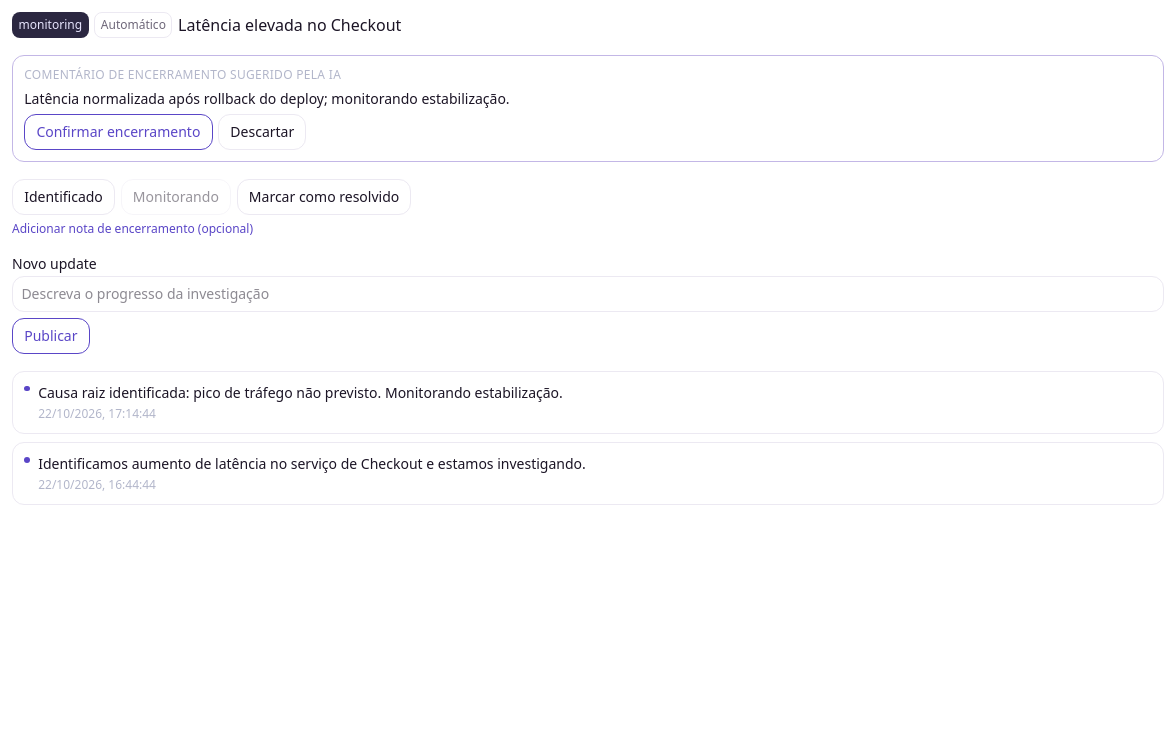
IncidentDetail › adding 2 updates appears in reverse chronological order
Expected: the text "Identificamos aumento de latência" is shown, left=38, top=454, right=586, bottom=474
Type "Primeiro update novo" into the field labelled "Novo update".
click(588, 294); type("Primeiro update novo")  # box left=12, top=276, right=1164, bottom=312
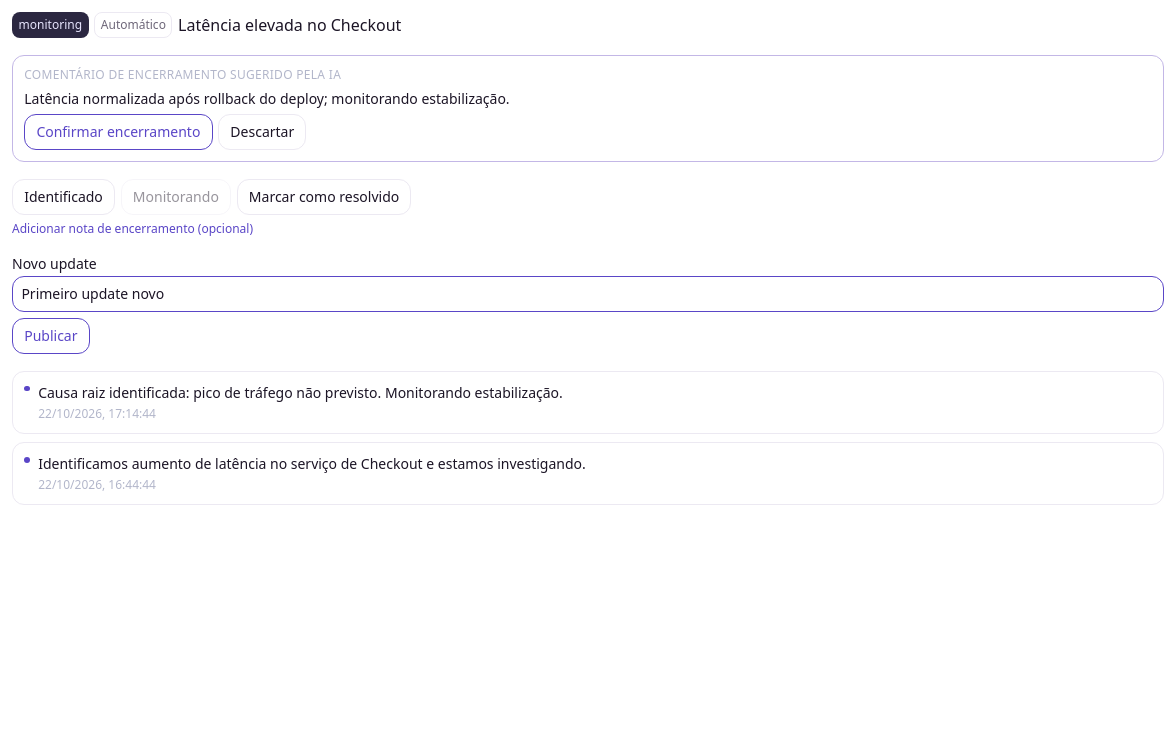
Click the button "Publicar".
click(51, 336)  # box left=12, top=318, right=90, bottom=354
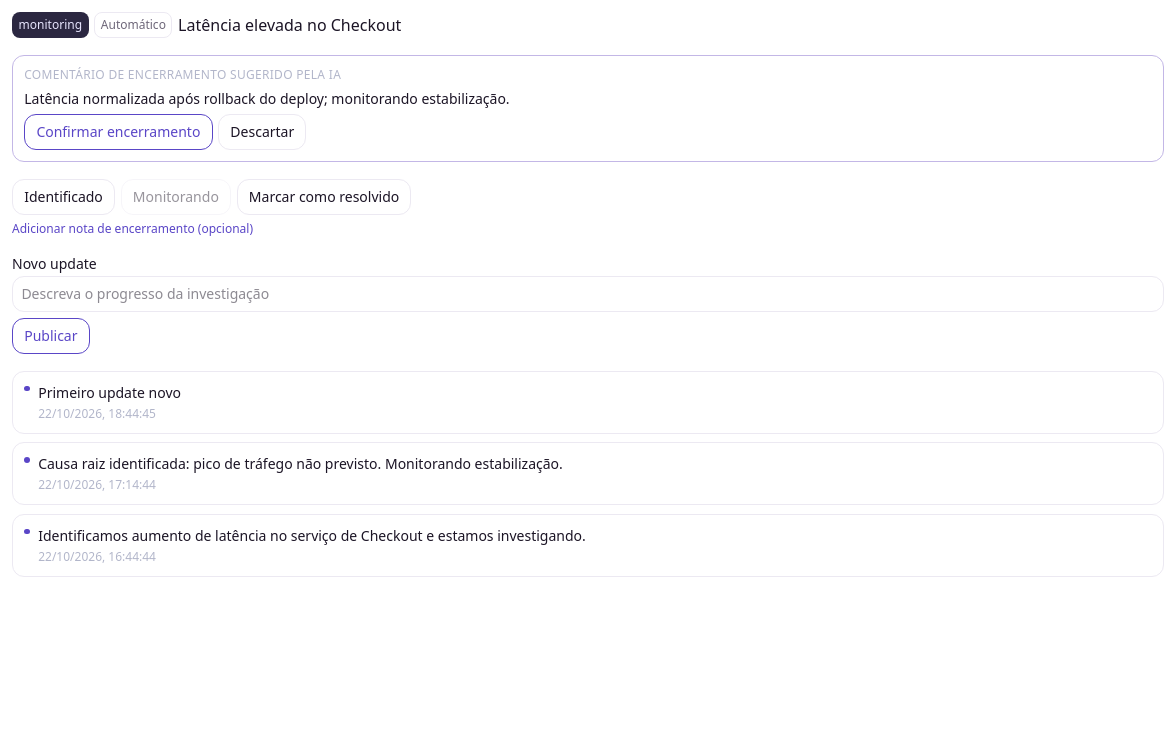
Now the text "Primeiro update novo" is shown, box left=38, top=383, right=181, bottom=403
Type "Segundo update novo" into the field labelled "Novo update".
click(588, 294); type("Segundo update novo")  # box left=12, top=276, right=1164, bottom=312
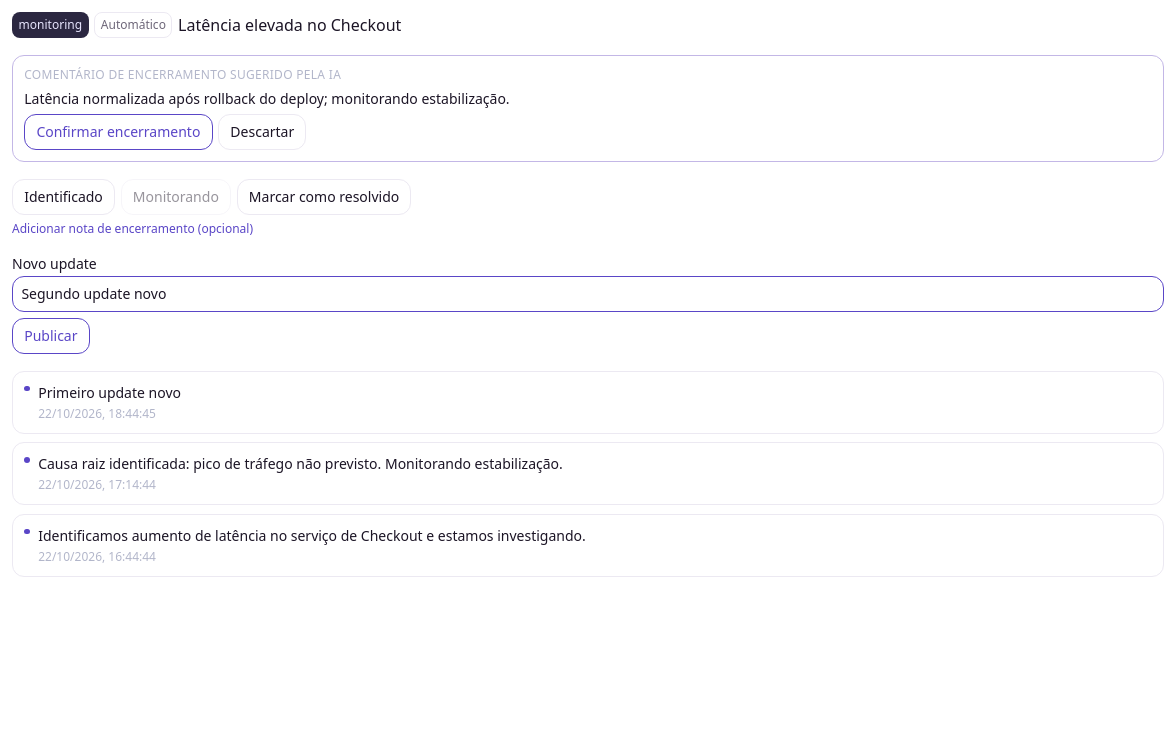
Click the button "Publicar".
click(51, 336)  # box left=12, top=318, right=90, bottom=354
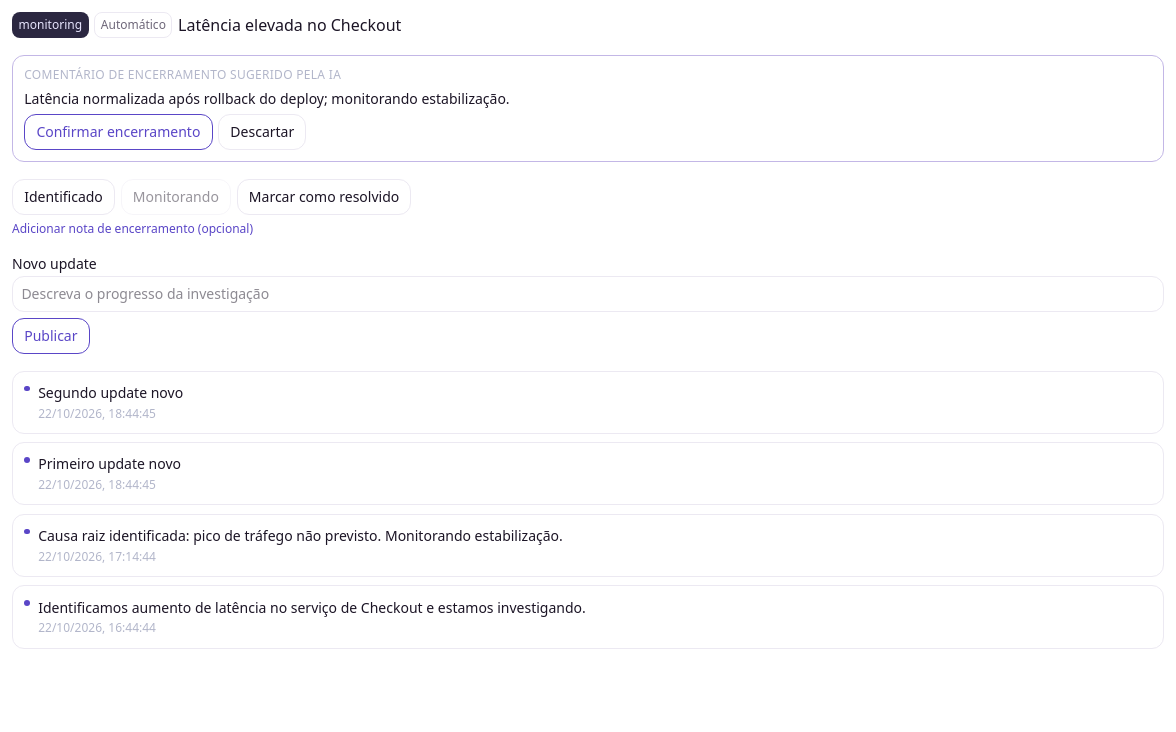
Now the text "Primeiro update novo" is shown, box left=38, top=454, right=181, bottom=474
Now the text "Segundo update novo" is shown, box left=38, top=383, right=183, bottom=403
